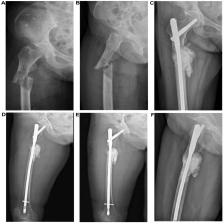pathological-fracture: (5, 0, 224, 220)
